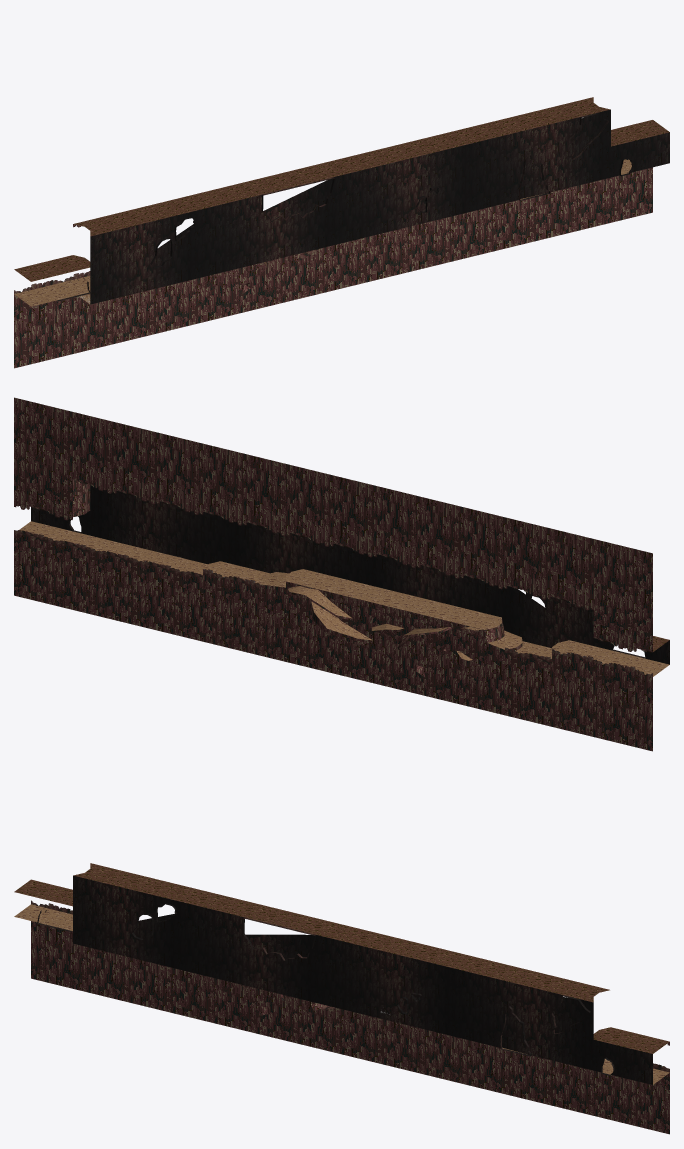
The model's file is Room17.fbx.
The picture shows the model from 3 angles, top to bottom: view 1: azimuth 30°, elevation 25°; view 2: azimuth 150°, elevation 25°; view 3: azimuth 330°, elevation 25°; orthographic projection.
Parts seen in each view (by area): view 1: polySurface9; view 2: polySurface9; view 3: polySurface9.
Part boxes in pixels (<box>): polySurface9: <box>14,97,669,368</box>; polySurface9: <box>14,397,669,751</box>; polySurface9: <box>14,863,669,1134</box>.
Size of the model in its own units: 108 by 32 by 8.62.
